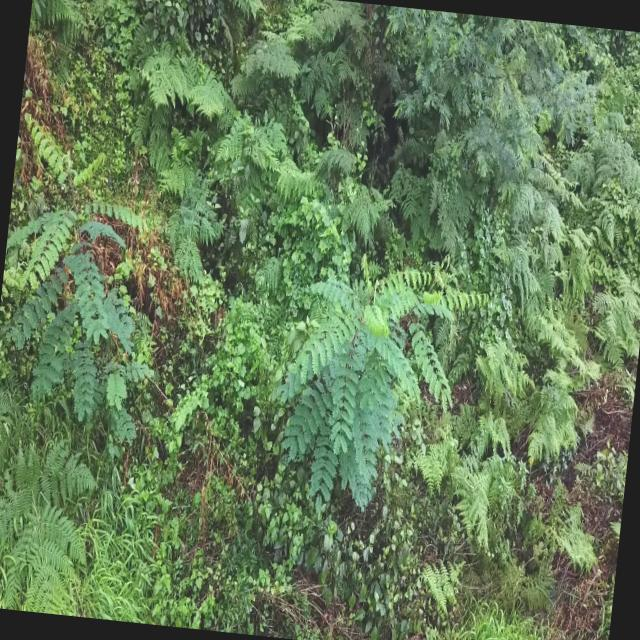Mysore-Thorn-Weed: (266, 243, 497, 531), (0, 105, 178, 462)
